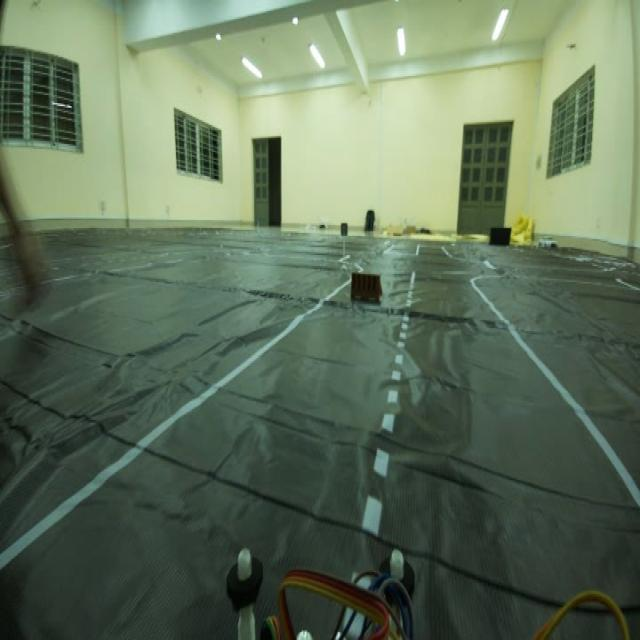roadblock: (344, 262, 388, 318)
